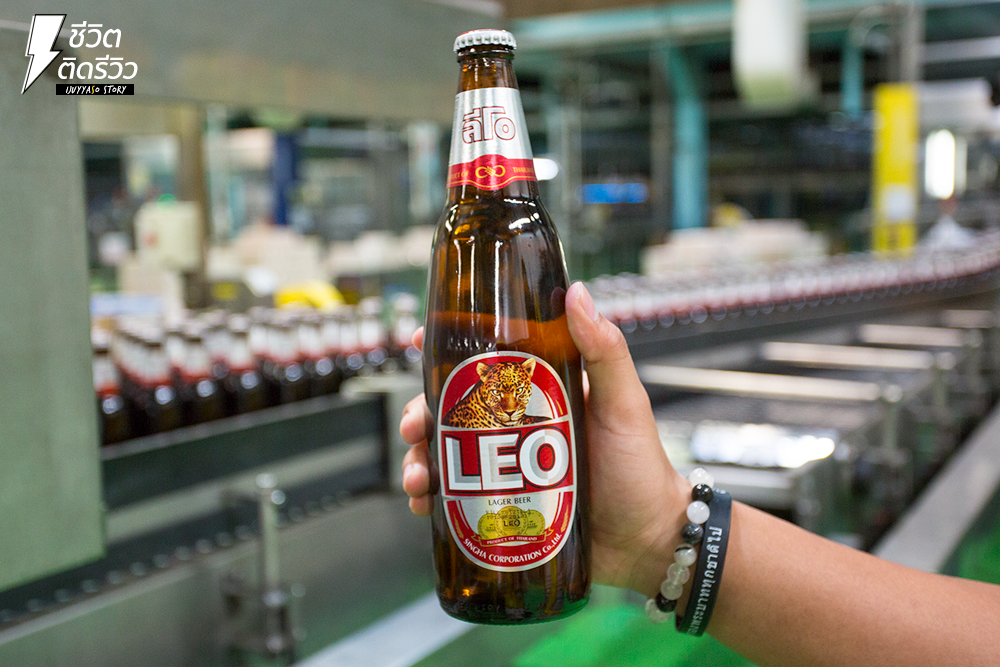glass_bottle: (415, 16, 602, 635)
